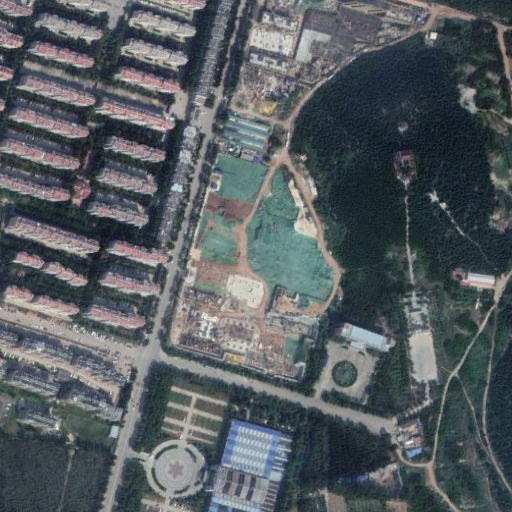cw: (179, 152, 335, 301)
